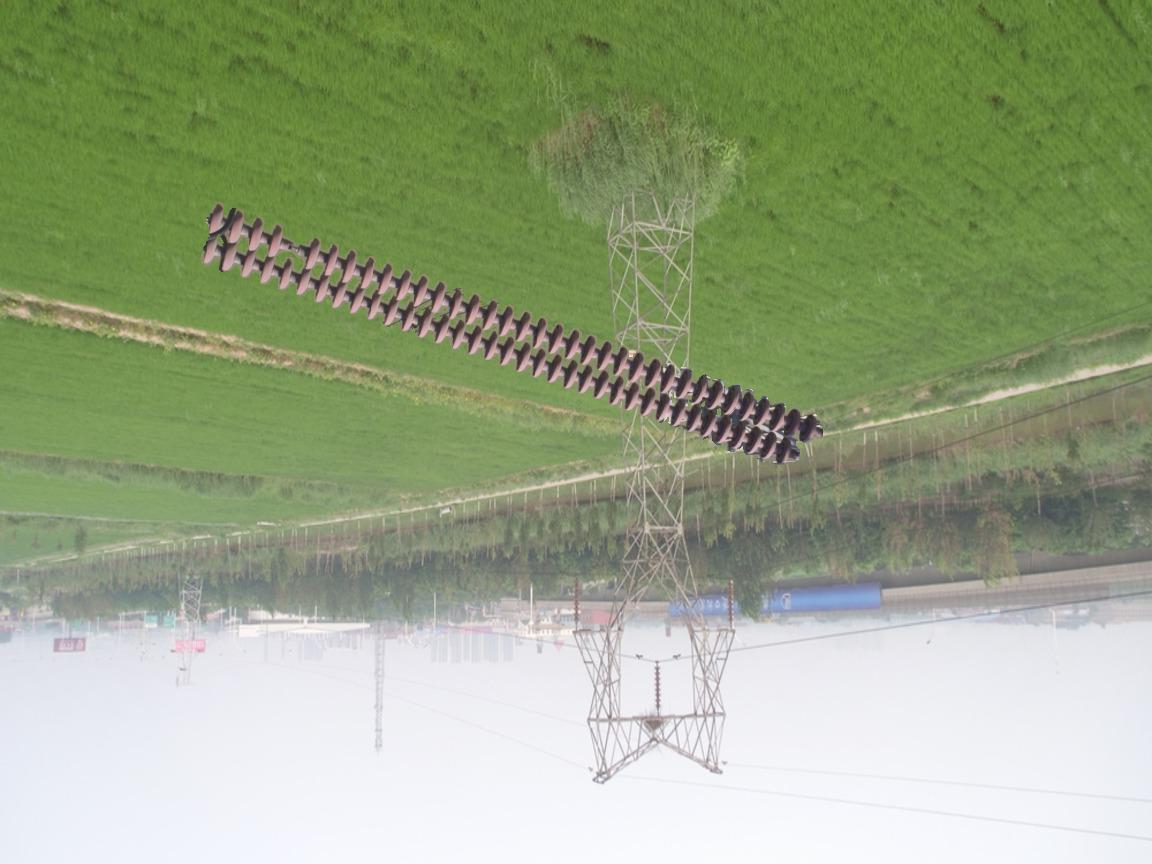insulator: (196, 198, 820, 470), (650, 663, 666, 712), (568, 577, 584, 625), (725, 574, 739, 626)
insulator_stringdrop: (265, 221, 324, 273)
